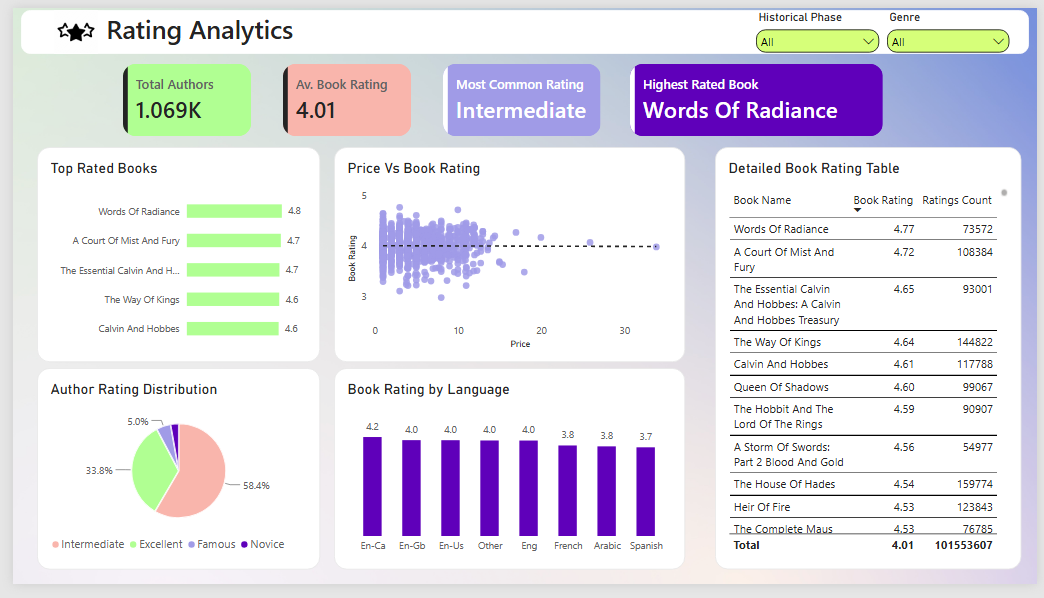

This screenshot's page, from the dashboard's own definition file:
{"tool":"powerbi","page":{"name":"Rating Analytics","canvas":[1280,720],"ordinal":1},"visuals":[{"type":"textbox","box":[10,3,1260,55],"z":0},{"type":"cardVisual","fields":{"Data":["Count(Fact Book Sales.Book ID)"]},"box":[301.1,70,160,90],"z":1000},{"type":"cardVisual","fields":{"Data":["Dim Books Info.Highest Rated Book"]},"box":[935.3,70,316.2,90],"z":2000},{"type":"cardVisual","fields":{"Data":["Dim Books Info.Most Common Rating"]},"box":[701.1,70,197.5,90],"z":3000},{"type":"cardVisual","fields":{"Data":["Avg(Dim Books Info.Book Av. Rating)"]},"box":[501.1,70,160,90],"z":4000},{"type":"barChart","title":"Top Rated Books","fields":{"Category":["Dim Books Info.Book Name"],"Y":["Avg(Dim Books Info.Book Av. Rating)"]},"box":[30,173.8,353.8,268.8],"z":5000},{"type":"scatterChart","title":"Price Vs Book Rating","fields":{"Category":["Dim Books Info.Book Name"],"X":["Avg(Fact Book Sales.Price)"],"Y":["Avg(Dim Books Info.Book Av. Rating)"]},"box":[401.2,173.8,438.8,268.8],"z":6000},{"type":"pieChart","title":"Author Rating Distribution","fields":{"Category":["Dim Books Info.Author Rating"],"Y":["CountNonNull(Dim Books Info.Author)"]},"box":[30,450,354.4,252],"z":7000},{"type":"tableEx","title":"Detailed Book Rating Table","fields":{"Values":["Dim Books Info.Book Name","Avg(Dim Books Info.Book Av. Rating)","Sum(Dim Books Info.Book Ratings Count)"]},"box":[877.5,173.8,382.7,528.2],"z":8000},{"type":"columnChart","title":"Book Rating by Language","fields":{"Category":["Dim Books Info.Language"],"Y":["Avg(Dim Books Info.Book Av. Rating)"]},"box":[401.2,450,439,252],"z":9000},{"type":"slicer","fields":{"Values":["Dim Books Info.Genre"]},"box":[1087.5,3.8,162.5,61.2],"z":10000},{"type":"slicer","fields":{"Values":["Dim Date.Historical Phase"]},"box":[923.8,3.8,163.8,61.2],"z":11000},{"type":"image","box":[41.2,2.5,75,55],"z":11001},{"type":"pageNavigator","box":[10.3,68,222,45],"z":11002},{"type":"pageNavigator","box":[10.3,121,222,45],"z":11003},{"type":"image","box":[177.7,124.2,58.1,37.6],"z":11004},{"type":"image","box":[9.1,71.8,57,39.9],"z":11005},{"type":"image","box":[9.1,121.9,55.8,44.4],"z":11006}]}

Visuals, with their boxes in screenshot pixels (x1, y1, x2, y2), scaled from the page's 1280x720 canvas onto the 1044x598 screenshot:
textbox: box(8, 2, 1036, 48)
cardVisual - Count(Fact Book Sales.Book ID): box(246, 58, 376, 133)
cardVisual - Dim Books Info.Highest Rated Book: box(763, 58, 1021, 133)
cardVisual - Dim Books Info.Most Common Rating: box(572, 58, 733, 133)
cardVisual - Avg(Dim Books Info.Book Av. Rating): box(409, 58, 539, 133)
"Top Rated Books" barChart: box(24, 144, 313, 368)
"Price Vs Book Rating" scatterChart: box(327, 144, 685, 368)
"Author Rating Distribution" pieChart: box(24, 374, 314, 583)
"Detailed Book Rating Table" tableEx: box(716, 144, 1028, 583)
"Book Rating by Language" columnChart: box(327, 374, 685, 583)
slicer - Dim Books Info.Genre: box(887, 3, 1020, 54)
slicer - Dim Date.Historical Phase: box(753, 3, 887, 54)
image: box(34, 2, 95, 48)
pageNavigator: box(8, 56, 189, 94)
pageNavigator: box(8, 100, 189, 138)
image: box(145, 103, 192, 134)
image: box(7, 60, 54, 93)
image: box(7, 101, 53, 138)
